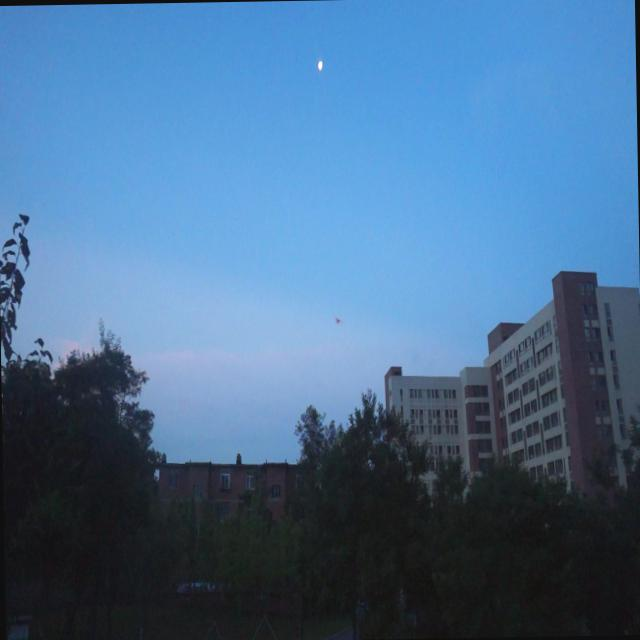drone: (332, 311, 343, 328)
